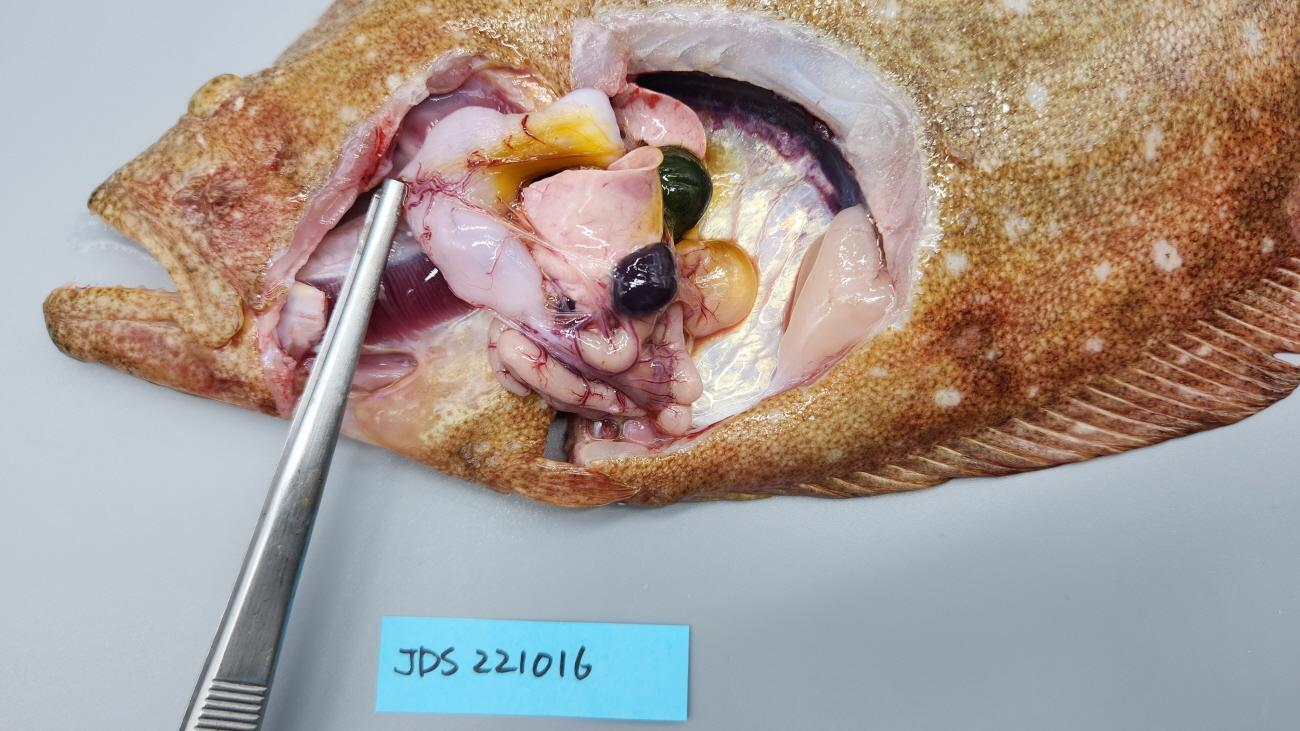POINN: (495, 241, 758, 437)
POSPN: (611, 240, 679, 317)
